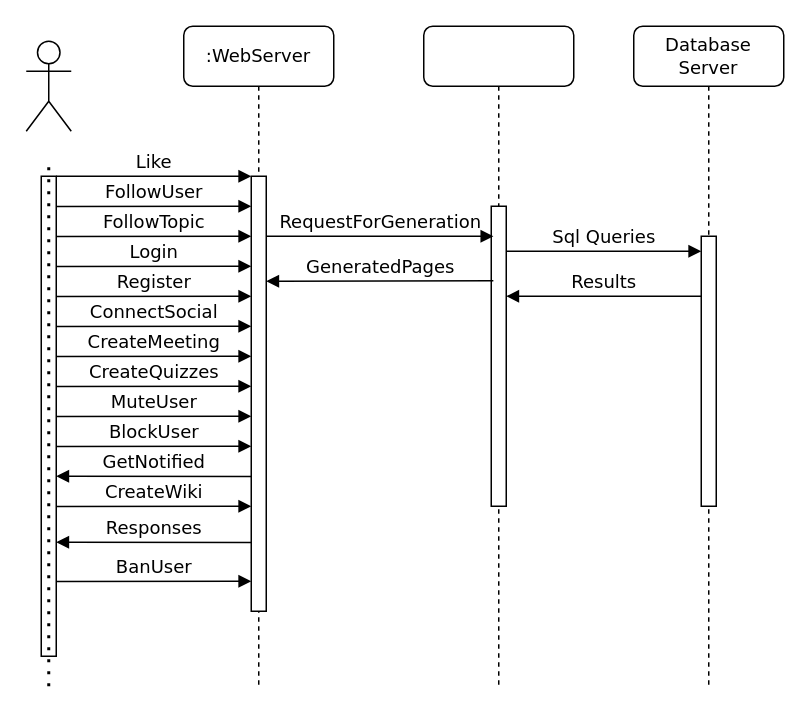
This 810x716 diagram has some shape labels left out. The shapes that lost their labels are listed below. From the top down, each one's box as (x1, y1, x2, y2) in pixels, then its label:
(25, 40, 71, 131): User
(422, 25, 574, 686): :Scripts
